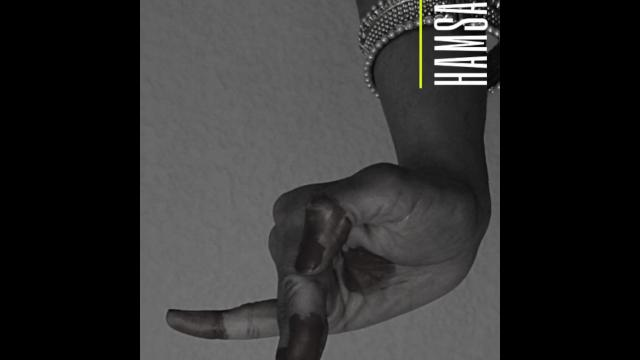Hamsapaksha: (157, 115, 479, 360)
